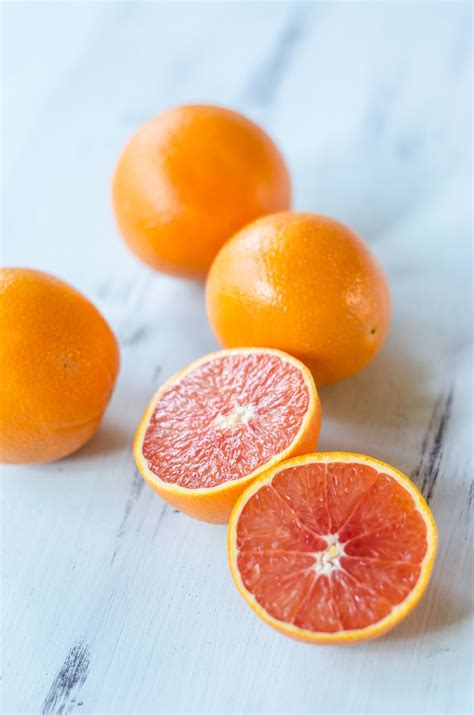orange: (204, 206, 393, 383), (115, 98, 293, 281), (1, 269, 118, 472)
